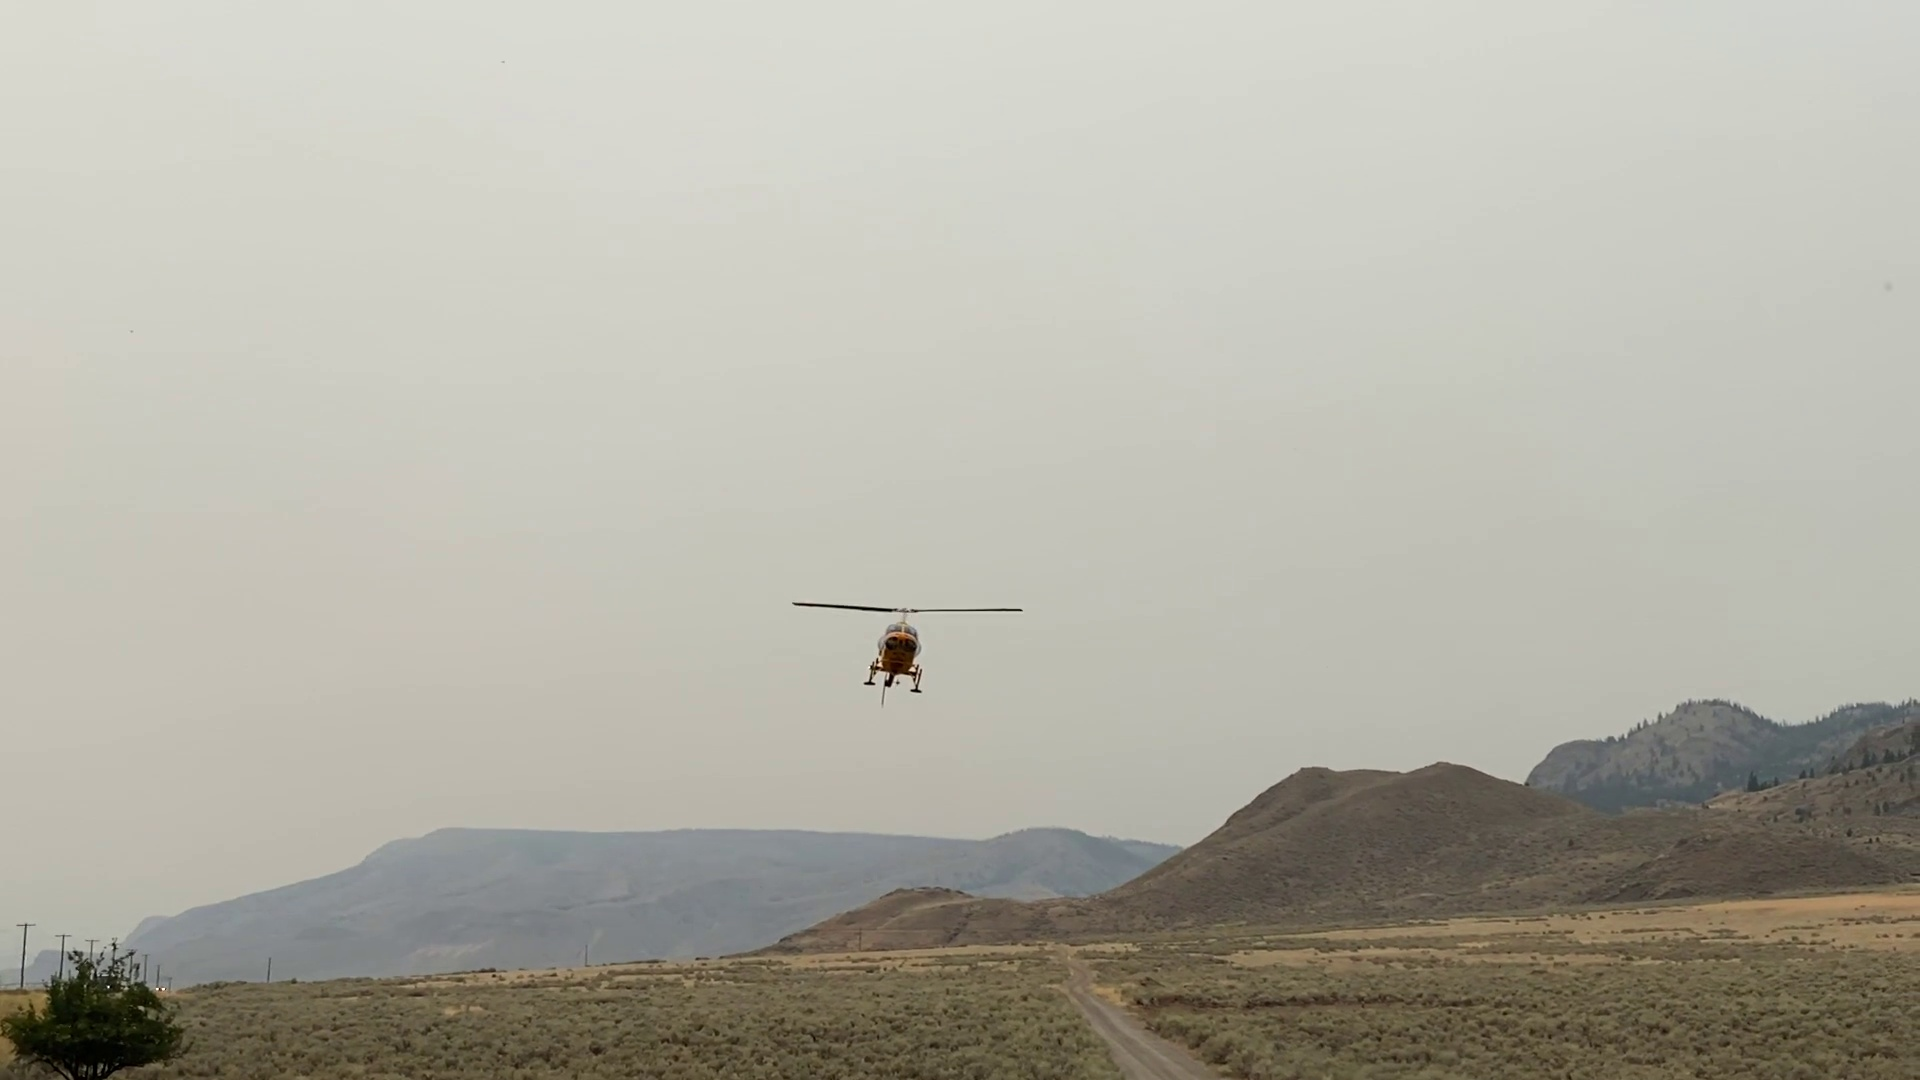heli: (796, 597, 1022, 694)
